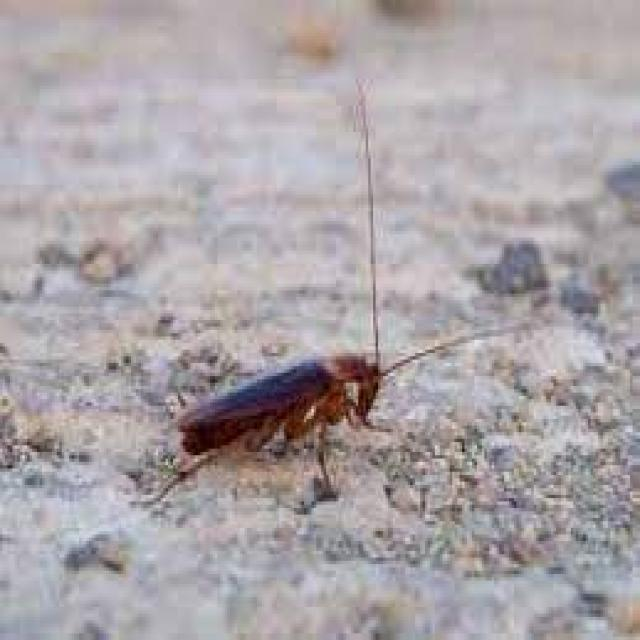Cockroach: (123, 63, 531, 519)
